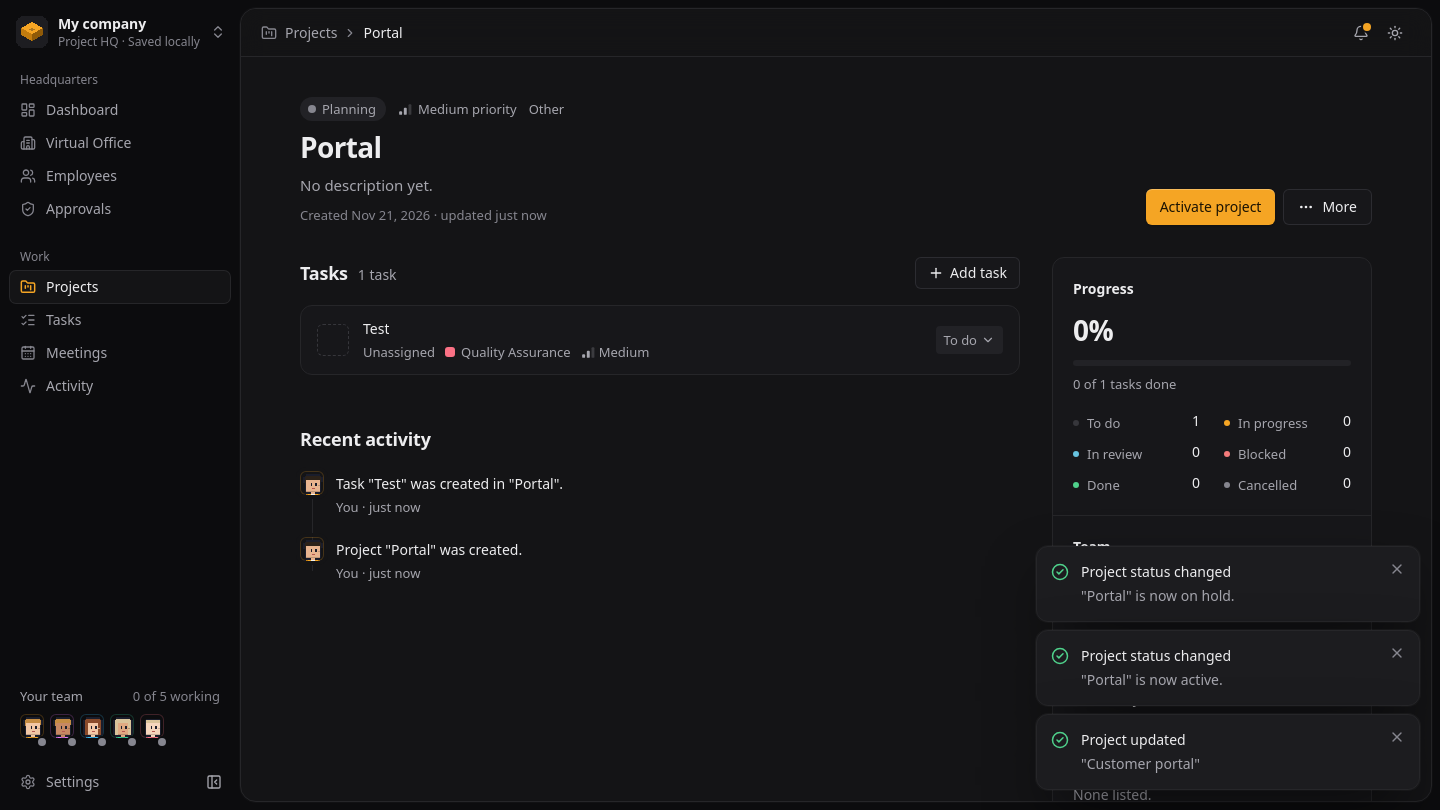
Test case: project details and lifecycle › confirms before archiving, then makes the project read-only until restored
Click the button with aria-label "More project actions".
click(1328, 207)  # box [1283,189,1372,225]
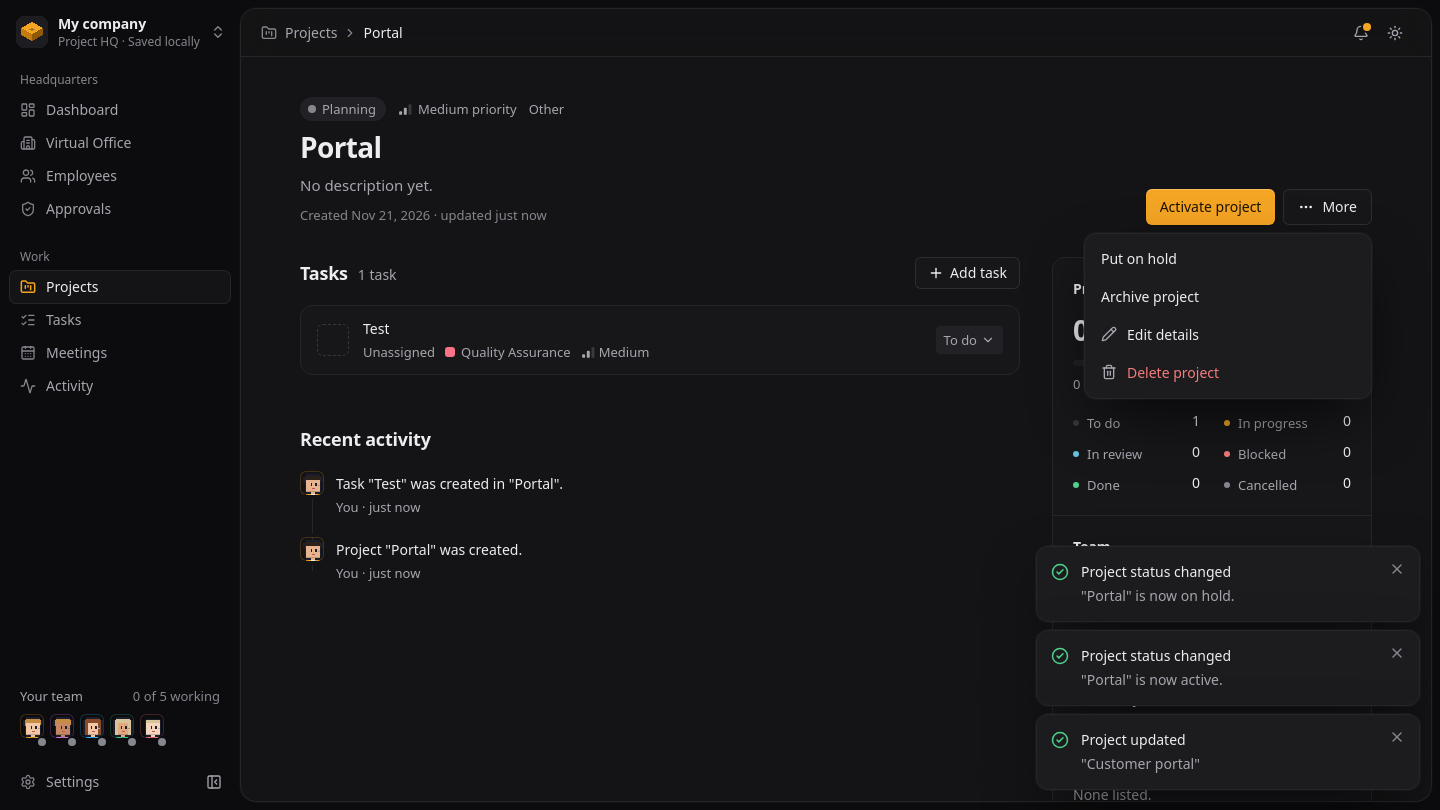
Click the menu item "Archive project".
click(1150, 296)  # box [1091,278,1365,316]
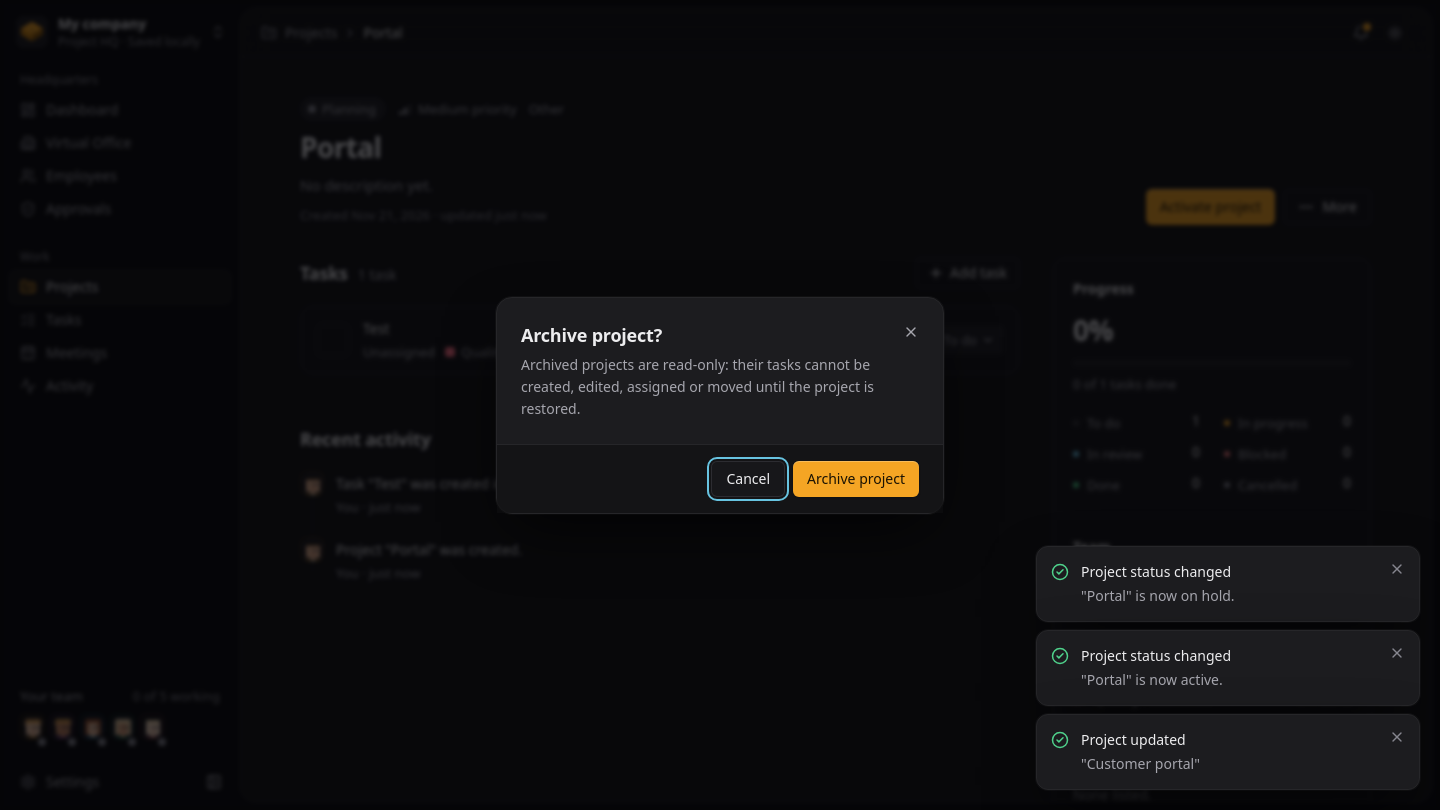
Check: the dialog "Archive project?" shows "read-only", box [521,354,874,418]
Click the button "Archive project".
click(856, 478)  # box [793,460,919,496]
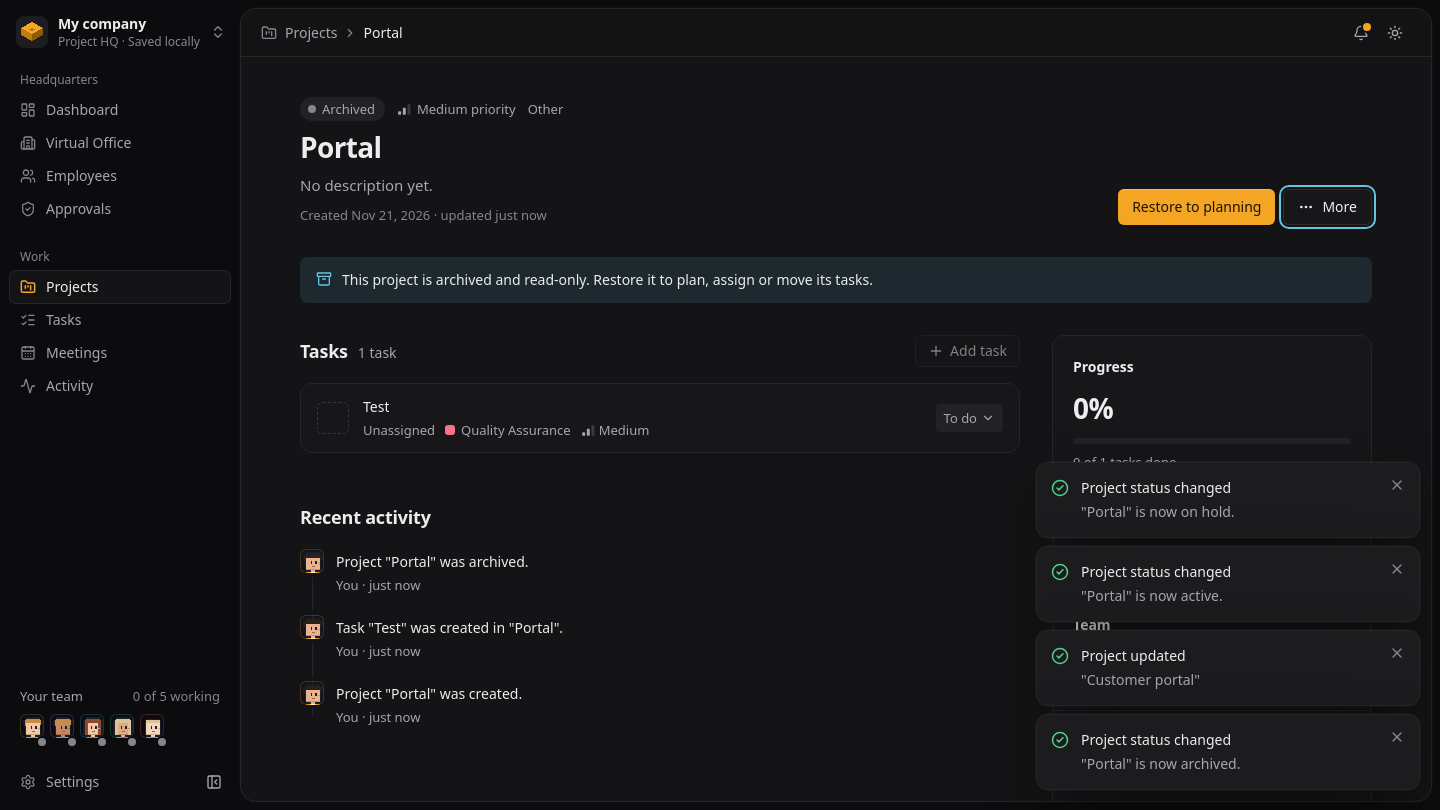
Check: the text "archived and read-only" is shown, box [342,270,873,289]
Check: the button "Add task" is disabled, box [915,335,1020,367]
Click the button named "Change status of \"Test\"".
click(969, 418)  # box [936,404,1003,432]
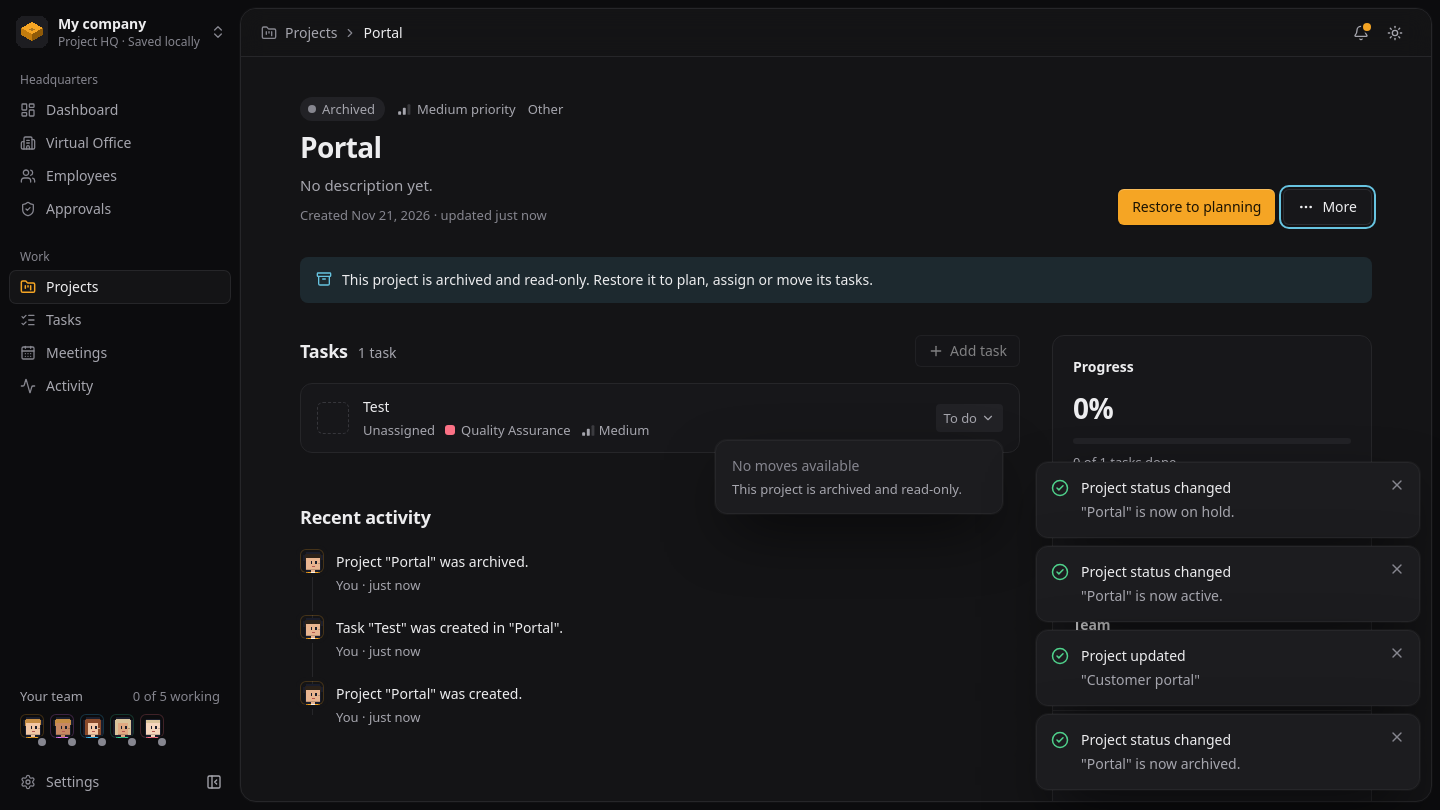
Press Escape
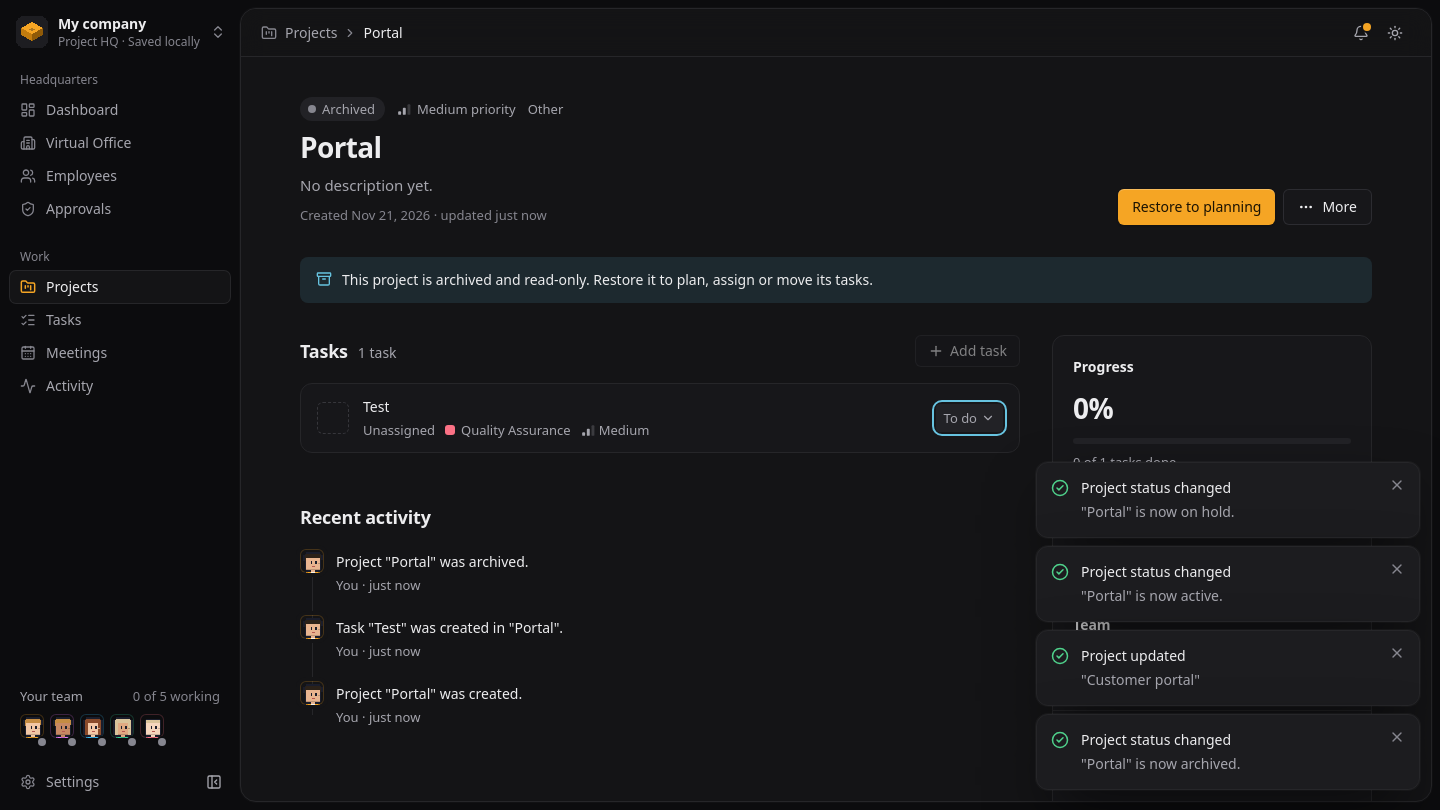
Click the button "Restore to planning".
click(1197, 207)  # box [1118,189,1275,225]
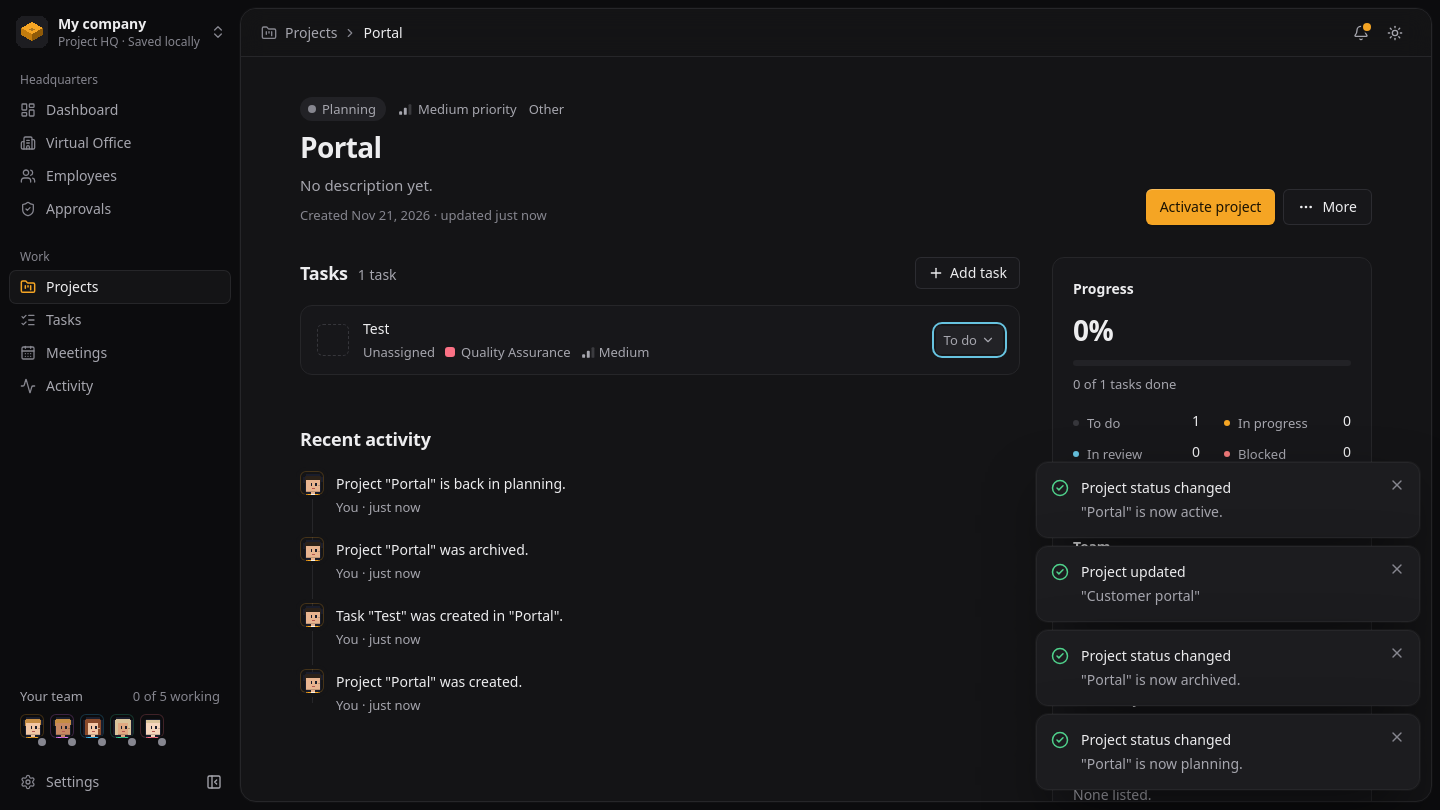
Check: the button "Add task" is enabled, box [915,257,1020,289]
